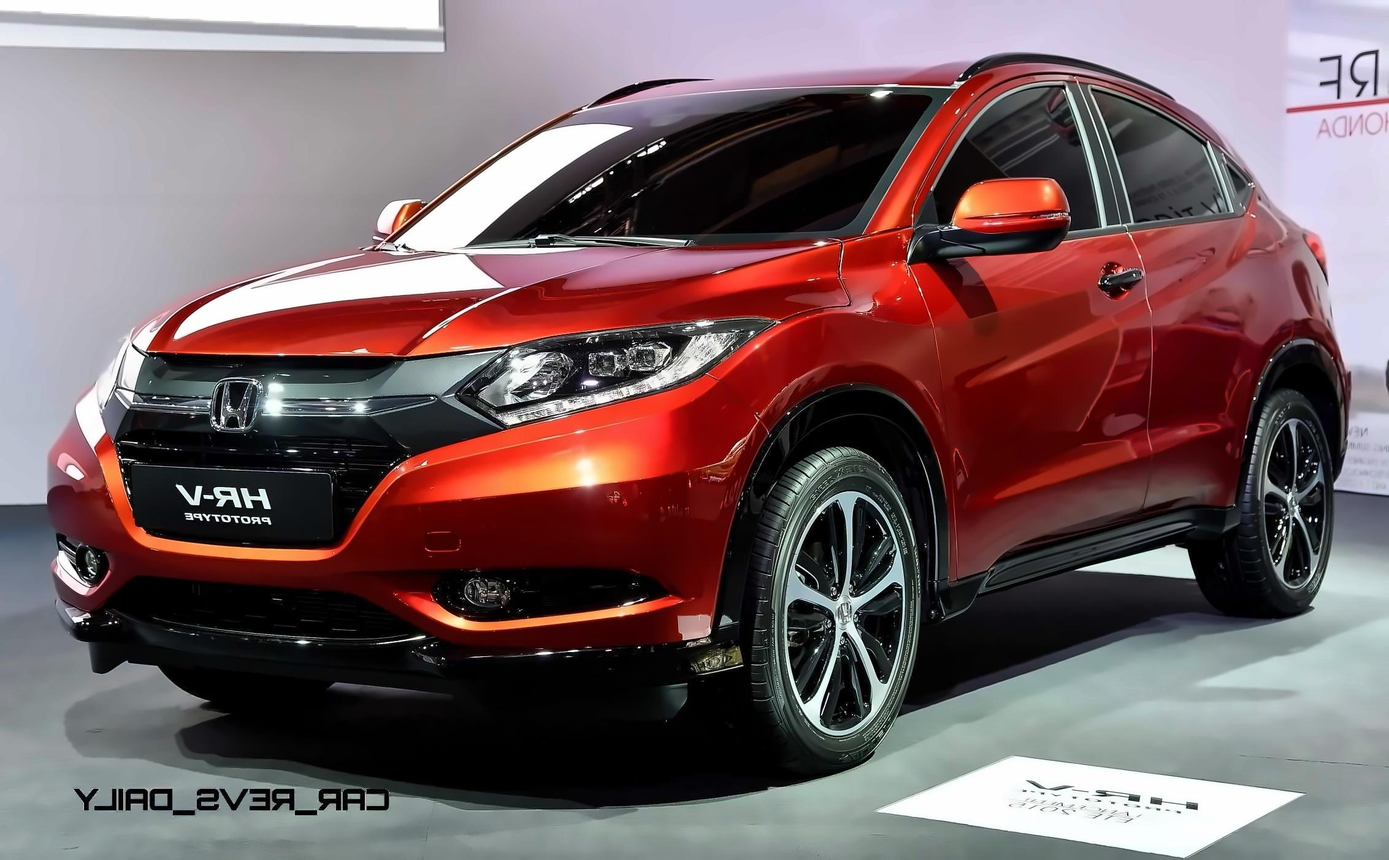Car hood: (118, 246, 857, 361)
Fender - -F-L-: (728, 230, 974, 646)
Fender - -R-L-: (1214, 166, 1355, 546)
Front bumper: (38, 388, 765, 706)
Headlight - -L-: (445, 313, 784, 433)
Headlight - -R-: (100, 330, 152, 433)
Passenger-s door - -F-L-: (900, 22, 1165, 625)
Passenger-s door - -R-L-: (1078, 54, 1276, 610)
Side bumper - -L-: (934, 472, 1242, 673)
Side mirror - -L-: (909, 167, 1075, 270)
Side mirror - -R-: (366, 193, 428, 251)
